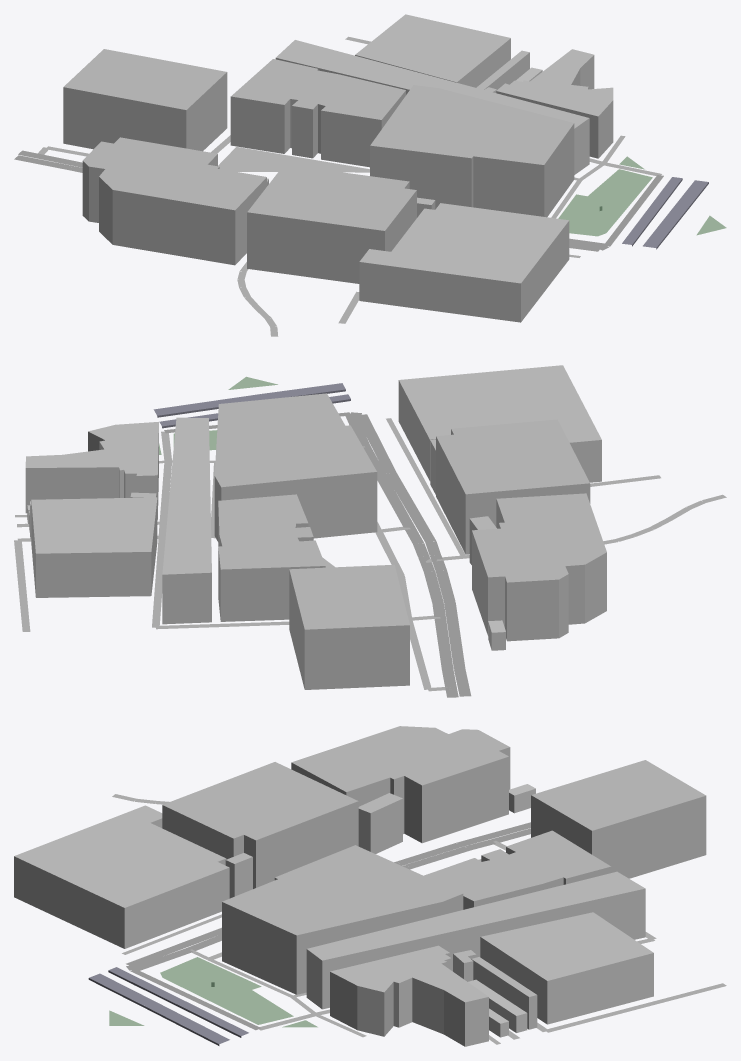
3 renders of one model, top to bottom at view 1: azimuth 30°, elevation 25°; view 2: azimuth 150°, elevation 25°; view 3: azimuth 270°, elevation 25°, orthographic. The views are drawn at different scales.
Bounding box in the file's own units: 570 × 62.55 × 652.
